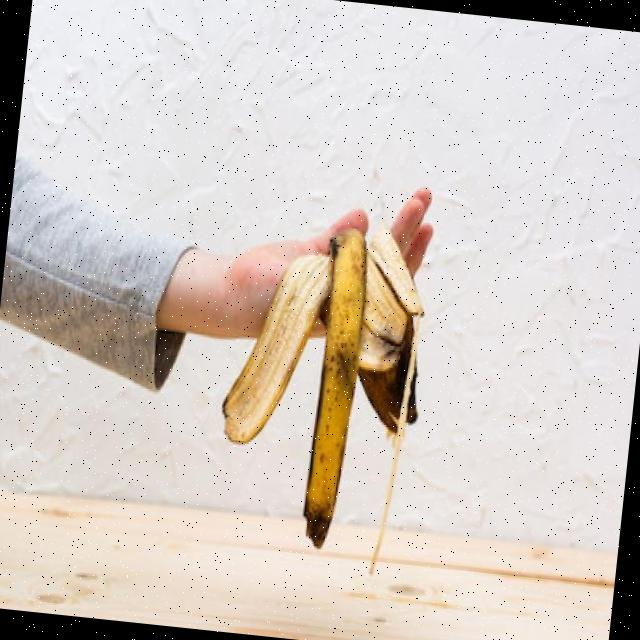banana-peel: (207, 208, 436, 558), (296, 223, 372, 550), (217, 241, 333, 451)
